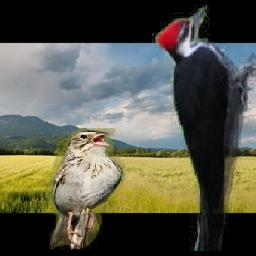Sparrow: (46, 128, 126, 250)
Woodpecker: (152, 5, 256, 251)
